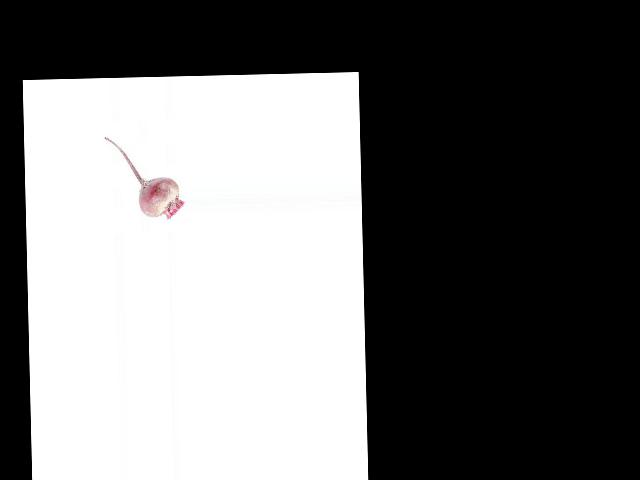beet: (104, 135, 185, 219)
